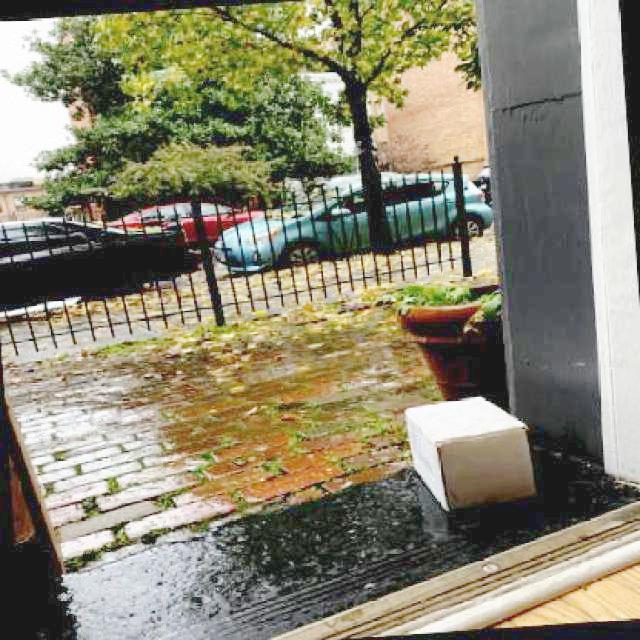Box: (393, 388, 553, 522)
